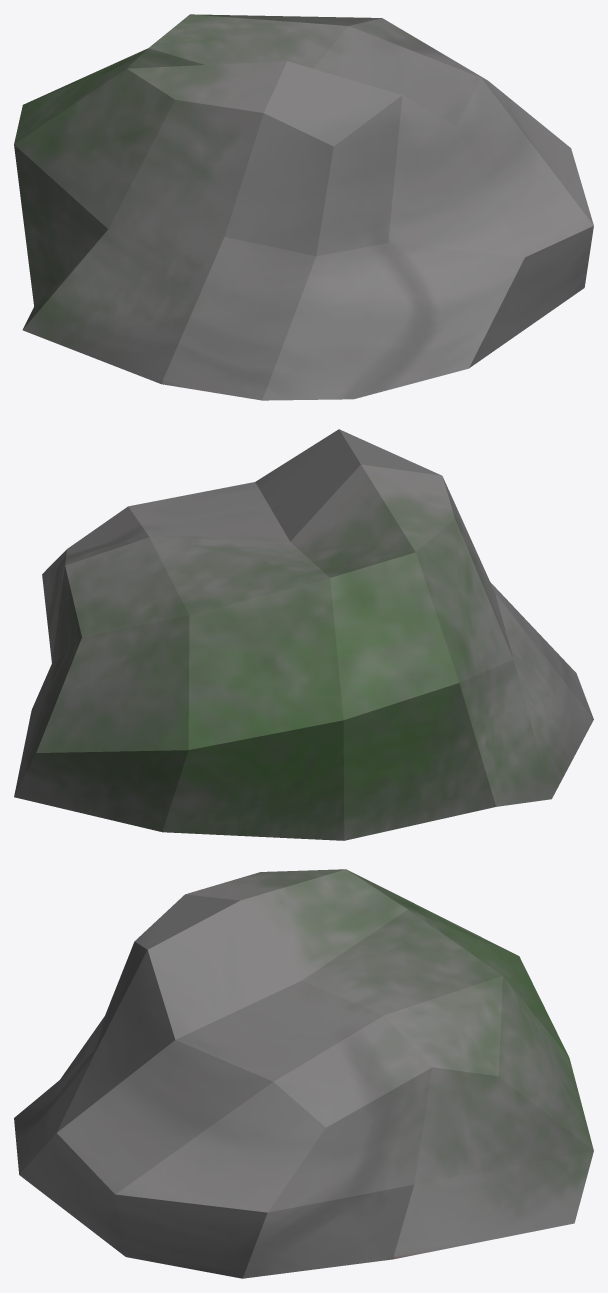
File: mossed-stone-004-49.glb
3 views of the same model, one above another, from view 1: azimuth 30°, elevation 25°; view 2: azimuth 150°, elevation 25°; view 3: azimuth 270°, elevation 25° (orthographic). The views are drawn at different scales.
Visible parts, largest first — view 1: mossed_stone.004_49; view 2: mossed_stone.004_49; view 3: mossed_stone.004_49.
Part boxes in pixels (x1,y1,x2,y2): mossed_stone.004_49: (14,14,593,400); mossed_stone.004_49: (14,429,593,840); mossed_stone.004_49: (14,869,593,1278).
Size of the model in its own units: 7.79 by 3.45 by 7.54.
Materials: 1 (1 with a texture image).
